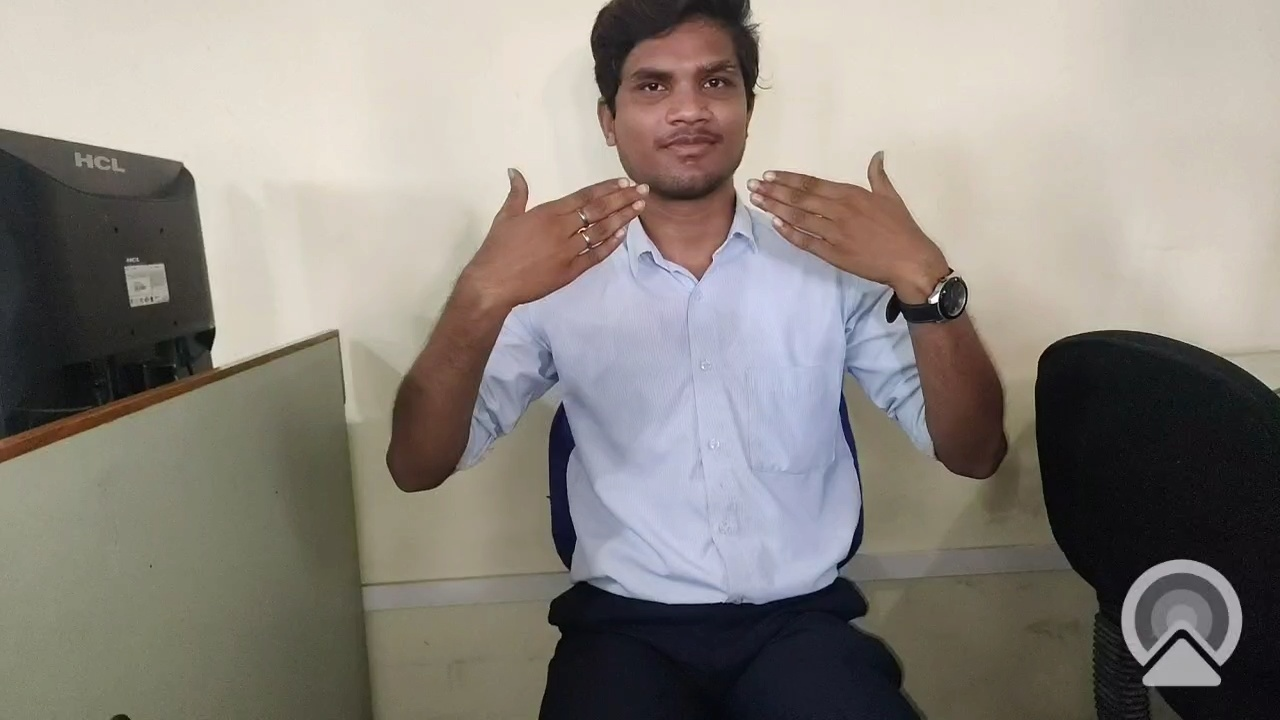Thank you: (416, 148, 1006, 453)
